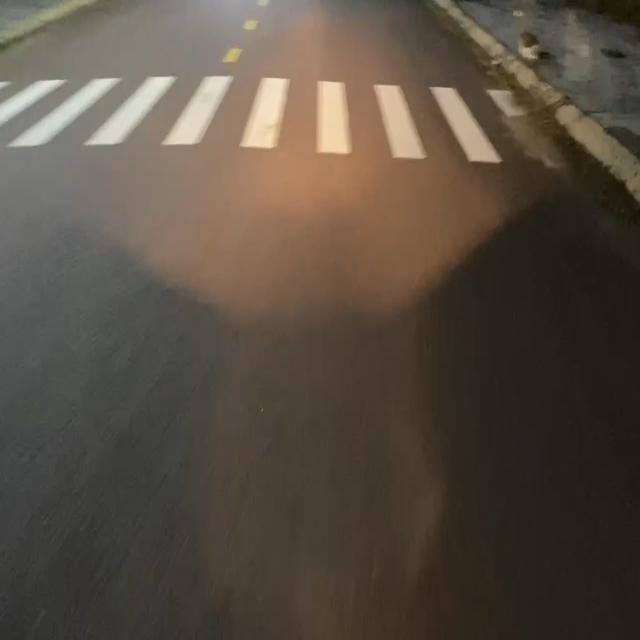walk-crossing: (0, 71, 561, 173)
